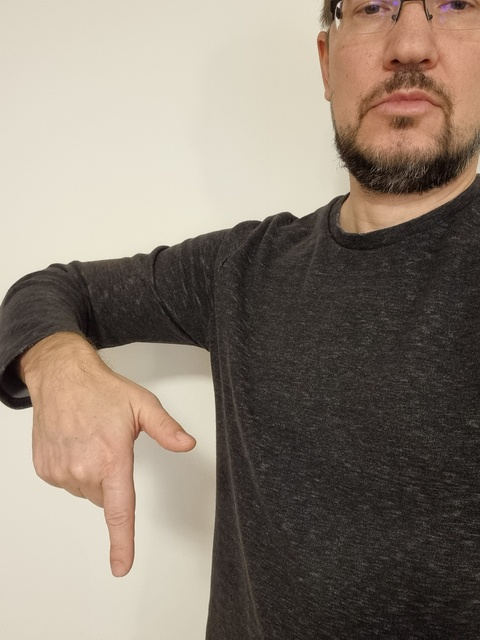GestDown: (32, 388, 196, 577)
